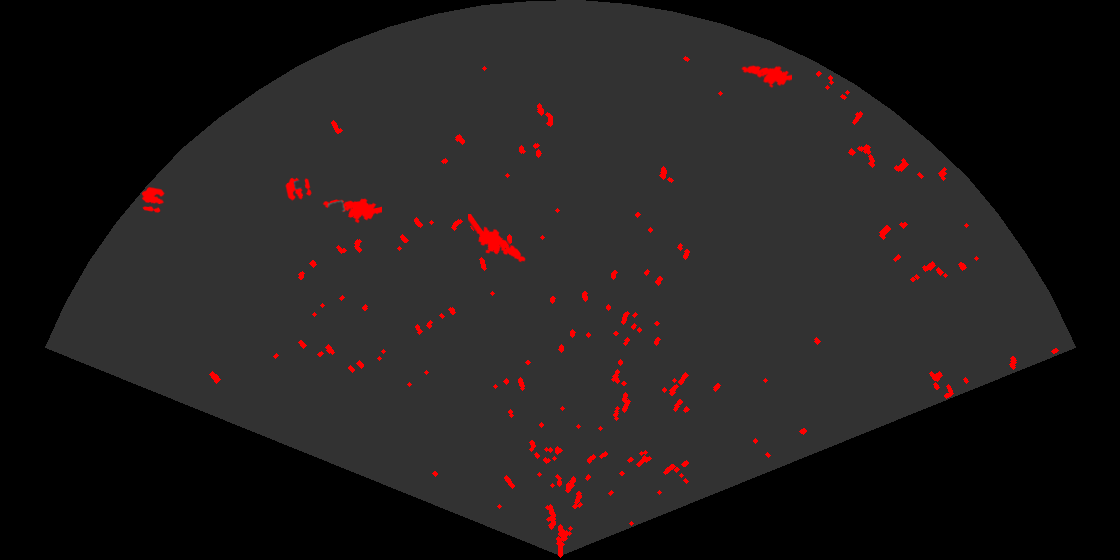ball: (140, 185, 167, 214), (284, 176, 313, 203)
frogman: (468, 214, 527, 264), (321, 197, 382, 225), (739, 64, 792, 90)
